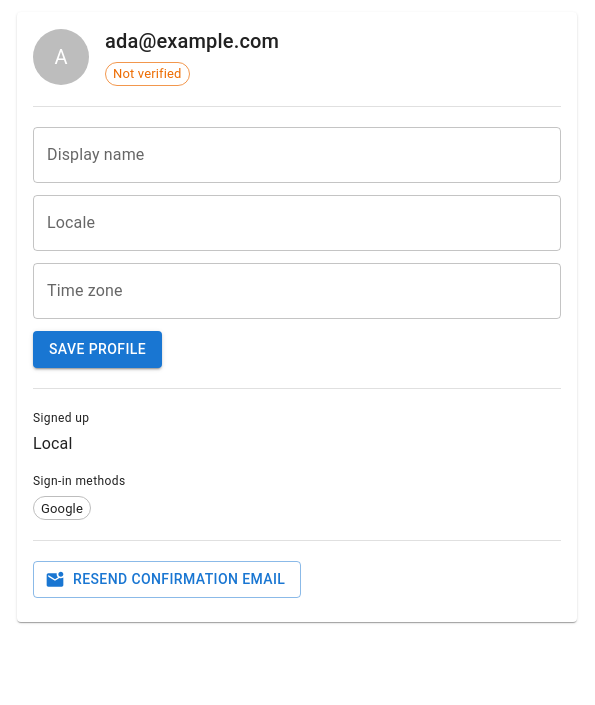
Scenario: UserService › resends the confirmation email for an unverified account
This screenshot has width=595, height=705.
Expected: the text "Not verified" is shown, x1=113 y1=66 x2=182 y2=81
Click the button "Resend confirmation email" at (167, 580), box x1=33 y1=561 x2=301 y2=598
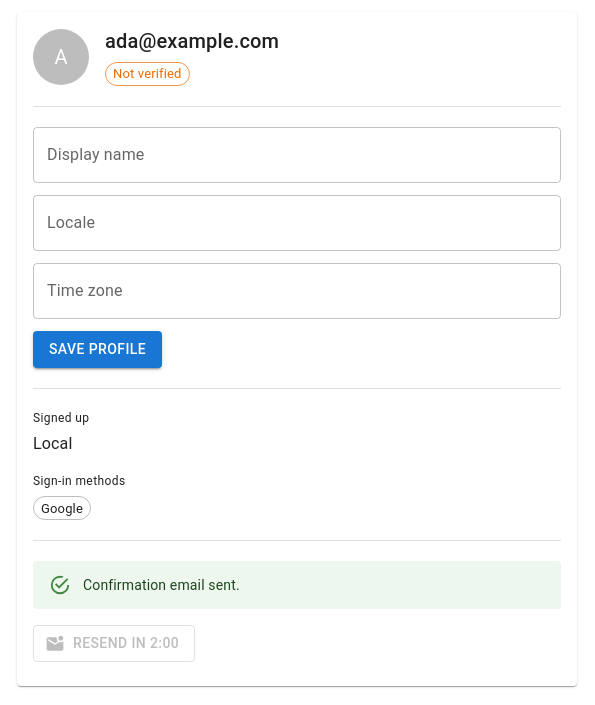
Result: the text "Confirmation email sent." is shown at x1=83 y1=577 x2=240 y2=593
